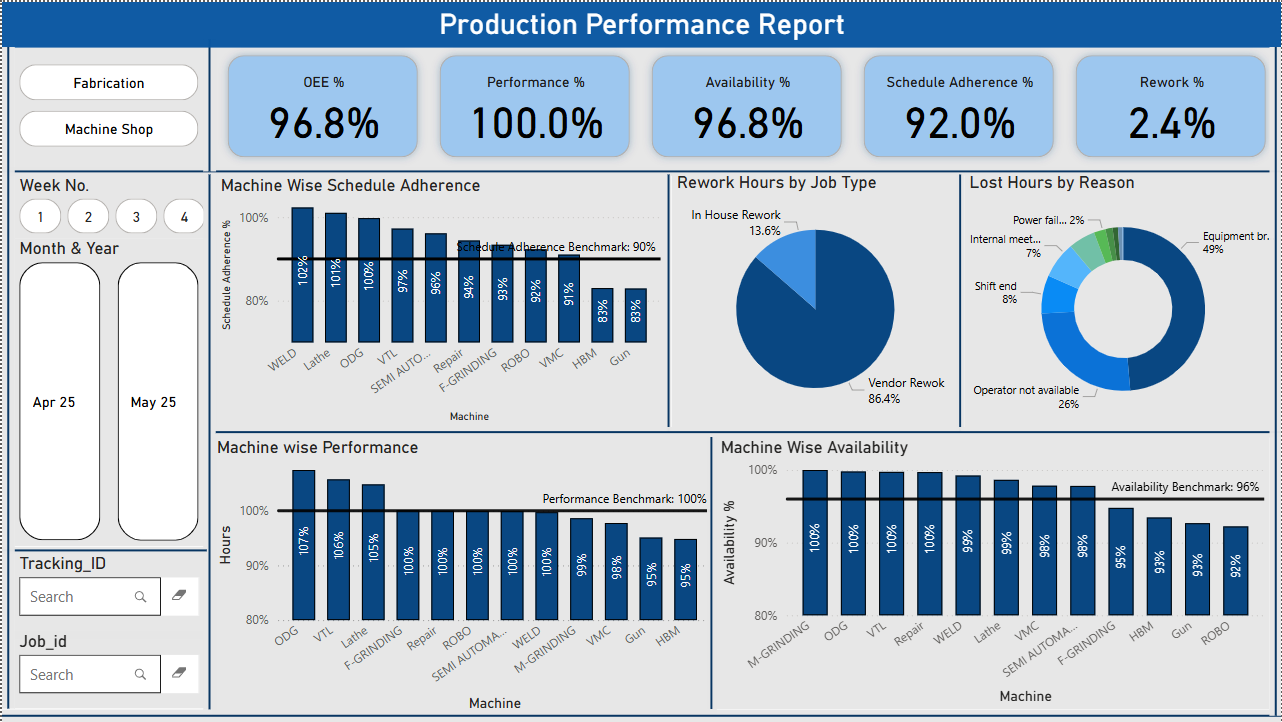

This screenshot's page, from the dashboard's own definition file:
{"tool":"powerbi","page":{"name":"Production","canvas":[1280,720],"ordinal":0},"visuals":[{"type":"advancedSlicerVisual","fields":{"Values":["Consolidated_Data (2).Shop"]},"box":[12.4,37.2,189.4,133],"z":0},{"type":"advancedSlicerVisual","fields":{"Values":["Consolidated_Data (2).Month & Year"]},"box":[12.4,236.7,197.2,174.7],"z":1000},{"type":"advancedSlicerVisual","fields":{"Values":["Consolidated_Data (2).Week No."]},"box":[12.4,172.4,197.2,64.2],"z":2000},{"type":"cardVisual","fields":{"Data":["Consolidated_Data (2).OEE %","Consolidated_Data (2).Performance %","Consolidated_Data (2).Availability %","Consolidated_Data (2).Schedule Adherence %","Consolidated_Data (2).Rework %"]},"box":[209.6,37.6,1070.9,134.4],"z":3000},{"type":"donutChart","title":" Lost Hours by Reason","fields":{"Category":["Consolidated_Data (2).Reason"],"Y":["Sum(Consolidated_Data (2).Lost Hours)"]},"box":[962.7,169.7,317.8,255.2],"z":4000},{"type":"clusteredColumnChart","title":"Machine wise Performance","fields":{"Category":["Consolidated_Data (2).Machine "],"Y":["Consolidated_Data (2).Performance %"]},"box":[209.6,435.2,504.7,279.1],"z":5000},{"type":"pieChart","title":" Rework Hours by Job Type","fields":{"Category":["Consolidated_Data (2).Job Type"],"Y":["Sum(Consolidated_Data (2).Rework Hrs Calc)"]},"box":[669.9,169.7,287.1,255.2],"z":6000},{"type":"columnChart","title":"Machine Wise Schedule Adherence","fields":{"Category":["Consolidated_Data (2).Machine "],"Y":["Consolidated_Data (2).Schedule Adherence %"]},"box":[214.2,172,450,252.9],"z":7000},{"type":"textFilter25A4896A83E0487089E2B90C9AE57C8A","fields":{"field":["Consolidated_Data (2).Tracking_ID"]},"box":[12.5,411.3,189.1,70.6],"z":8000},{"type":"textFilter25A4896A83E0487089E2B90C9AE57C8A","fields":{"field":["Consolidated_Data (2).Job_id"]},"box":[12.5,481.9,189.1,69.5],"z":9000},{"type":"shape","box":[0,165.2,1280.5,9.1],"z":10000},{"type":"shape","box":[953.5,172,9.1,258.6],"z":11000},{"type":"shape","box":[664.2,172,5.7,258.6],"z":12000},{"type":"shape","box":[201.6,172,12.5,535.4],"z":13000},{"type":"shape","box":[214.2,424.9,1066.3,10.3],"z":14000},{"type":"shape","box":[201.6,37.6,12.5,132.2],"z":15000},{"type":"clusteredColumnChart","title":"Machine Wise Availability ","fields":{"Category":["Consolidated_Data (2).Machine "],"Y":["Consolidated_Data (2).Availability %"]},"box":[714.3,435.2,553.7,272.3],"z":16000},{"type":"ScrollingTextVisual1448795304508","title":"Schedule Adherence","fields":{"Category":["Consolidated_Data (2).Machine "],"Measure Absolute":["Consolidated_Data (2).Schedule Adherence %"]},"box":[12.5,551.4,194.8,156.1],"z":17000},{"type":"shape","box":[0,707.5,1280.5,12.5],"z":18000},{"type":"shape","box":[705.2,435.2,9.1,272.3],"z":19000},{"type":"shape","box":[0,544.6,205.1,6.8],"z":20000},{"type":"shape","box":[0,404.4,205.1,6.8],"z":21000},{"type":"textbox","box":[0,0,1280.5,45.6],"z":22000},{"type":"shape","box":[1268,45.6,12.5,668.7],"z":23000},{"type":"shape","box":[0,45.6,12.5,661.9],"z":24000}]}

Visuals, with their boxes in screenshot pixels (x1, y1, x2, y2), scaled from the page's 1280x720 canvas onto the 1282x722 screenshot:
advancedSlicerVisual - Consolidated_Data (2).Shop: 12:37:202:171
advancedSlicerVisual - Consolidated_Data (2).Month & Year: 12:237:210:413
advancedSlicerVisual - Consolidated_Data (2).Week No.: 12:173:210:237
cardVisual - Consolidated_Data (2).OEE % x Consolidated_Data (2).Performance %: 210:38:1281:172
" Lost Hours by Reason" donutChart: 964:170:1281:426
"Machine wise Performance" clusteredColumnChart: 210:436:715:716
" Rework Hours by Job Type" pieChart: 671:170:958:426
"Machine Wise Schedule Adherence" columnChart: 215:172:665:426
textFilter25A4896A83E0487089E2B90C9AE57C8A - Consolidated_Data (2).Tracking_ID: 13:412:202:483
textFilter25A4896A83E0487089E2B90C9AE57C8A - Consolidated_Data (2).Job_id: 13:483:202:553
shape: 0:166:1281:175
shape: 955:172:964:432
shape: 665:172:671:432
shape: 202:172:214:709
shape: 215:426:1281:436
shape: 202:38:214:170
"Machine Wise Availability " clusteredColumnChart: 715:436:1270:709
"Schedule Adherence" ScrollingTextVisual1448795304508: 13:553:208:709
shape: 0:709:1281:721
shape: 706:436:715:709
shape: 0:546:205:553
shape: 0:406:205:412
textbox: 0:0:1281:46
shape: 1270:46:1281:716
shape: 0:46:13:709
